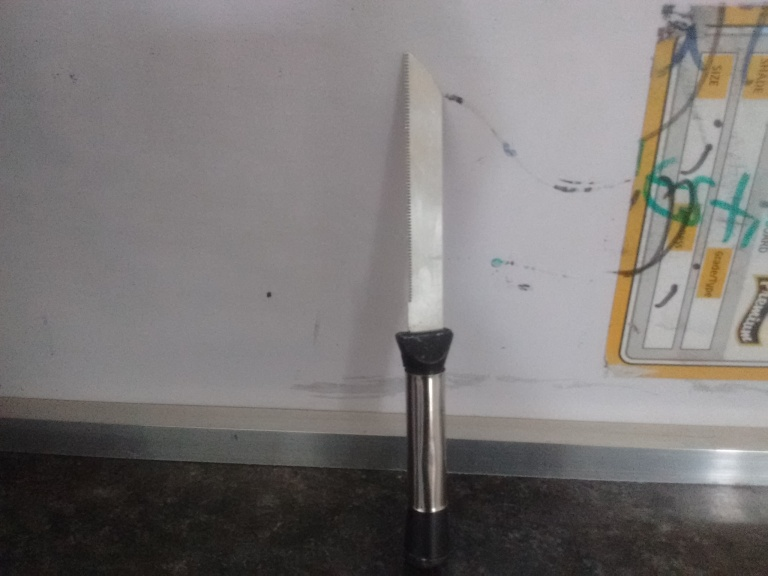knife: (393, 48, 457, 570)
